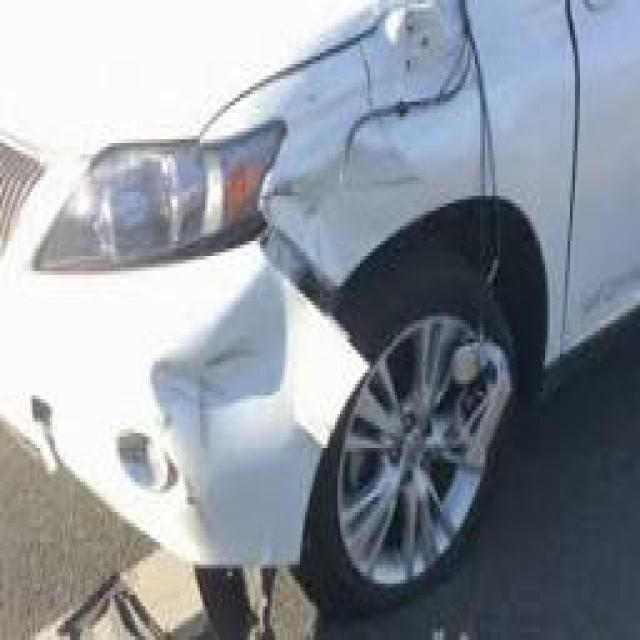replaceable: (283, 54, 467, 254), (148, 316, 352, 494)
